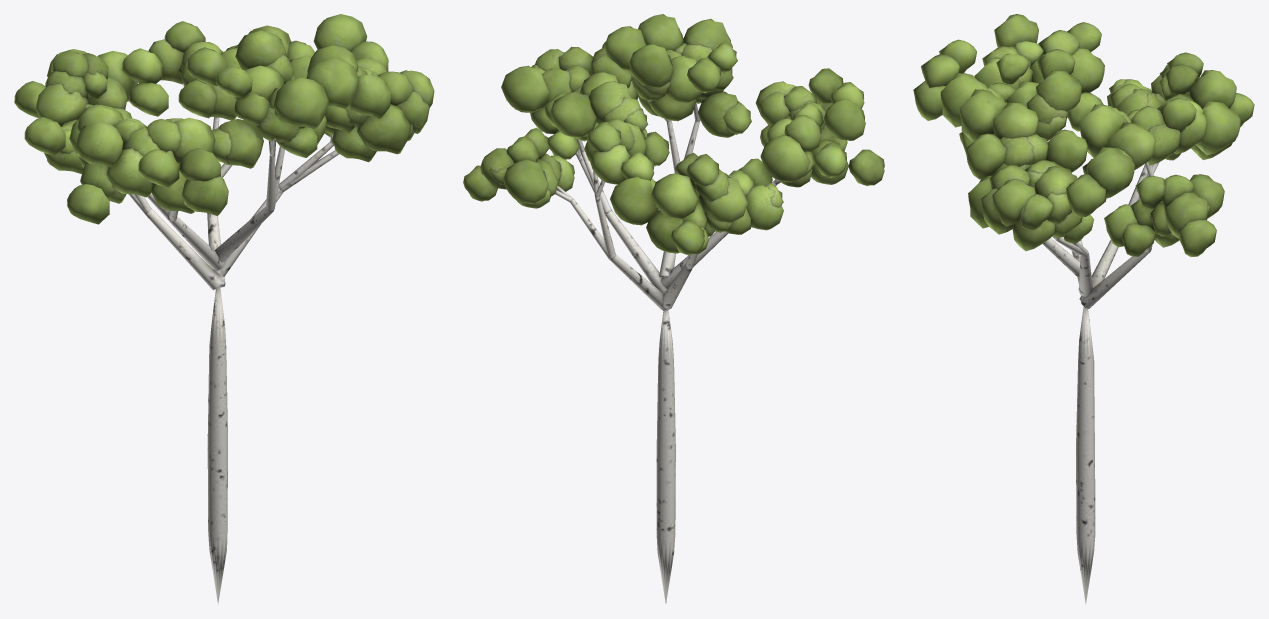
File: birch.glb
The picture shows the model from 3 angles, left to right: view 1: azimuth 30°, elevation 25°; view 2: azimuth 150°, elevation 25°; view 3: azimuth 270°, elevation 25°; orthographic projection. The views are drawn at different scales.
Parts seen in each view (by area): view 1: birch; view 2: birch; view 3: birch.
Part boxes in pixels (x1,y1,x2,y2): birch: [14, 14, 434, 604]; birch: [463, 14, 884, 604]; birch: [913, 14, 1254, 604].
Size of the model in its own units: 6.15 by 9.17 by 5.19.
Materials: 2 (2 with a texture image).
